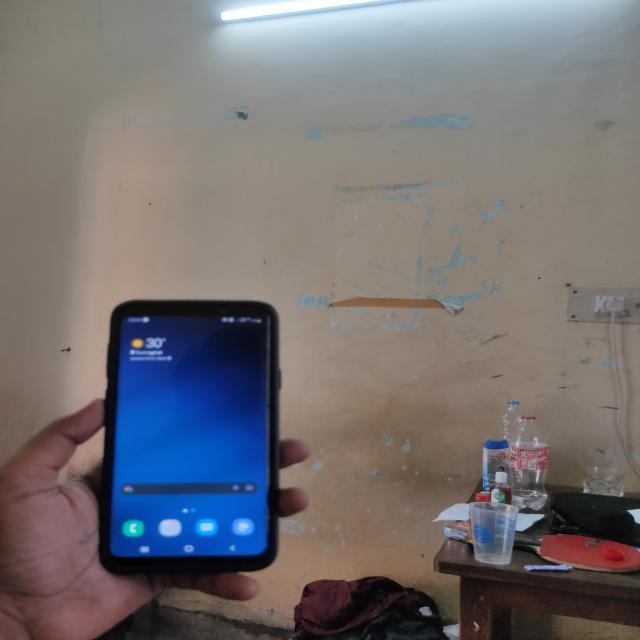Phone: (97, 294, 286, 578)
